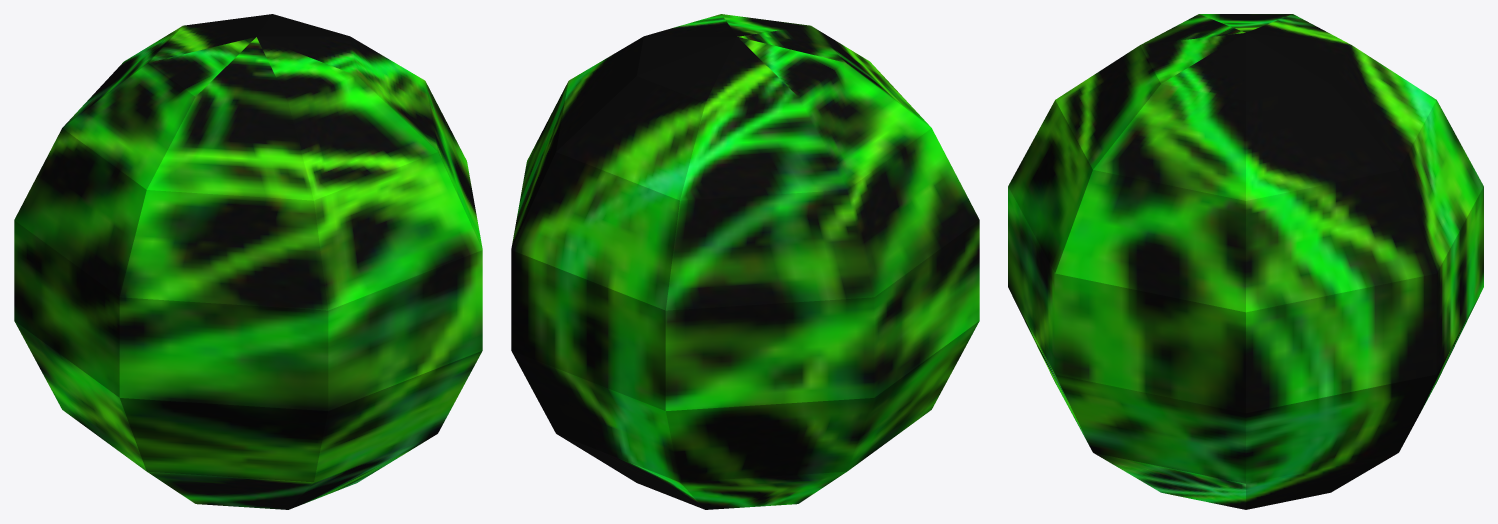
File: EnergyGreen.fbx
3 views of the same model, side by side, from view 1: azimuth 30°, elevation 25°; view 2: azimuth 150°, elevation 25°; view 3: azimuth 270°, elevation 25° (orthographic).
Parts seen in each view (by area): view 1: Energy; view 2: Energy; view 3: Energy.
Boxes of the visible parts, <box> form: Energy: <box>14,14,482,509</box>; Energy: <box>511,14,979,509</box>; Energy: <box>1008,14,1483,509</box>.
Size of the model in its own units: 1.85 by 2 by 1.9.
